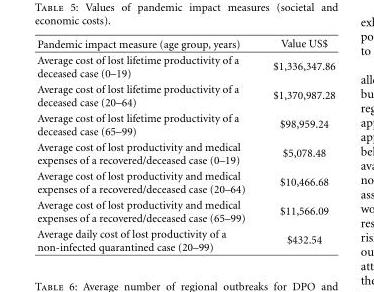table: (36, 36, 334, 252)
table column: (36, 36, 258, 252), (258, 36, 334, 252)
table column header: (36, 36, 334, 51)
table row: (36, 51, 334, 81), (36, 109, 334, 138), (36, 138, 334, 167), (36, 167, 334, 196), (36, 196, 334, 225), (36, 81, 334, 109), (36, 225, 334, 252), (36, 36, 334, 51)
